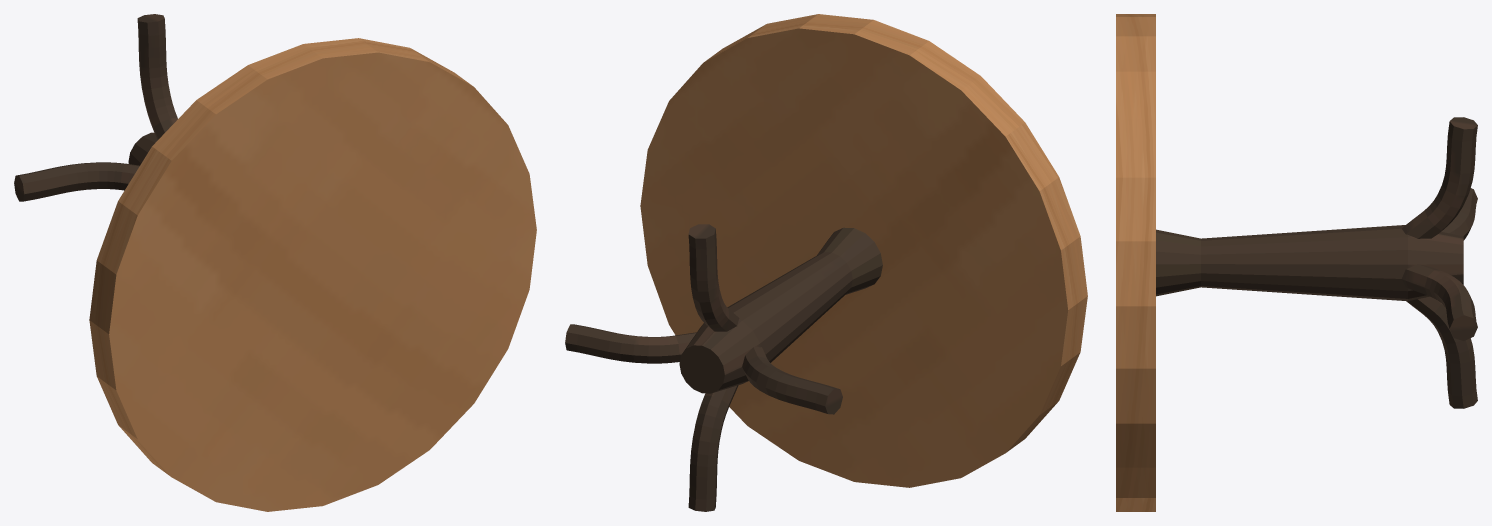
The model's file is pz_table_tables_high_01_round_table.obj.
The picture shows the model from 3 angles, left to right: view 1: azimuth 30°, elevation 25°; view 2: azimuth 150°, elevation 25°; view 3: azimuth 270°, elevation 25°; orthographic projection.
Size of the model in its own units: 0.94 by 0.94 by 0.6806.
Materials: 1 (1 with a texture image).
